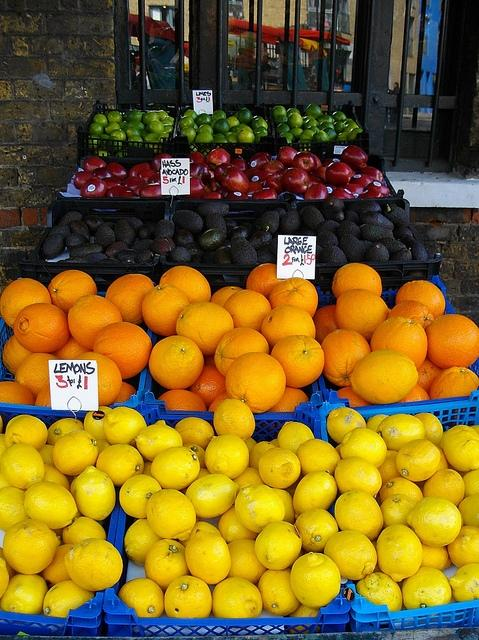apple: (219, 166, 249, 193), (282, 168, 310, 194), (326, 162, 352, 187), (342, 145, 368, 169), (79, 176, 108, 197), (292, 152, 317, 174), (206, 148, 230, 170), (214, 163, 235, 187), (181, 178, 206, 198), (73, 171, 100, 189), (276, 146, 297, 168), (105, 162, 128, 182), (356, 166, 384, 182), (263, 173, 284, 194), (151, 152, 173, 172), (303, 183, 328, 200), (138, 182, 166, 197), (365, 181, 390, 197), (249, 152, 271, 170), (83, 158, 106, 175), (262, 158, 285, 174), (340, 184, 366, 198), (106, 185, 134, 198), (128, 162, 150, 178), (196, 162, 211, 185), (137, 168, 158, 184), (248, 170, 272, 183), (349, 174, 373, 187), (252, 188, 278, 200), (331, 188, 356, 200), (123, 177, 146, 190), (244, 181, 263, 196), (312, 167, 328, 184), (230, 157, 250, 170), (101, 177, 122, 189), (356, 189, 384, 198), (322, 158, 342, 168), (190, 162, 202, 178), (188, 152, 206, 162), (225, 192, 250, 199), (148, 172, 161, 185), (203, 192, 223, 199), (119, 191, 139, 197)
avocado: (319, 245, 347, 279), (358, 210, 395, 232), (231, 235, 258, 264), (196, 202, 230, 224), (172, 210, 204, 233), (358, 223, 394, 243), (114, 218, 136, 249), (278, 210, 304, 236), (338, 238, 366, 262), (348, 200, 382, 218), (336, 220, 360, 245), (384, 207, 410, 230), (302, 206, 325, 232), (43, 234, 66, 260), (204, 213, 228, 237), (94, 226, 116, 252), (199, 228, 224, 250), (259, 210, 280, 236), (377, 238, 407, 256), (67, 220, 91, 242), (318, 204, 344, 224), (69, 243, 103, 258), (82, 214, 104, 237), (364, 242, 389, 262), (150, 236, 176, 255), (172, 226, 195, 247), (248, 231, 272, 251), (104, 241, 130, 259), (66, 233, 90, 252), (406, 240, 428, 260), (154, 220, 174, 240), (256, 246, 277, 265), (316, 220, 340, 236), (316, 231, 338, 248), (49, 223, 71, 240), (227, 226, 251, 241), (59, 212, 84, 226), (115, 248, 140, 262), (170, 247, 191, 263), (214, 246, 232, 264), (394, 226, 414, 242), (82, 252, 108, 264), (138, 222, 155, 240), (132, 240, 154, 253), (389, 248, 412, 260), (342, 210, 360, 224), (136, 250, 155, 263), (127, 218, 143, 232), (57, 256, 91, 262), (224, 219, 238, 233), (202, 251, 216, 264), (266, 238, 278, 252), (98, 258, 121, 264), (104, 222, 116, 232), (191, 254, 203, 263), (119, 258, 136, 264), (276, 208, 286, 218)
lemon: (3, 518, 61, 574), (64, 538, 122, 591), (290, 552, 341, 610), (405, 497, 462, 548), (376, 524, 423, 582), (400, 566, 452, 618), (146, 489, 197, 542), (324, 530, 378, 580), (186, 528, 232, 586), (334, 489, 384, 541), (234, 484, 286, 534), (24, 481, 78, 529), (145, 539, 192, 594), (184, 473, 240, 519), (72, 465, 116, 521), (254, 520, 302, 570), (52, 430, 100, 476), (151, 446, 200, 491), (212, 576, 263, 618), (1, 443, 46, 489), (292, 470, 337, 516), (258, 568, 300, 617), (205, 434, 249, 480), (96, 444, 144, 486), (334, 456, 382, 498), (224, 539, 268, 584), (43, 580, 95, 618), (165, 576, 212, 618), (0, 574, 48, 615), (376, 413, 426, 452), (294, 508, 337, 553), (395, 439, 441, 481), (135, 424, 184, 463), (119, 474, 162, 518), (340, 428, 387, 468), (124, 518, 163, 566), (103, 406, 147, 448), (356, 572, 402, 612), (119, 578, 165, 618), (213, 399, 255, 442), (258, 447, 301, 489), (423, 468, 465, 509), (296, 438, 341, 476), (411, 443, 449, 488), (443, 425, 479, 472), (5, 414, 48, 452), (218, 506, 258, 544), (326, 407, 366, 444), (1, 486, 31, 533), (42, 544, 74, 588), (174, 417, 214, 451), (448, 525, 478, 569), (380, 494, 416, 530), (277, 421, 314, 455), (63, 516, 106, 545), (450, 563, 478, 602), (380, 478, 423, 503), (233, 467, 266, 499), (288, 602, 321, 634), (47, 418, 84, 446), (180, 522, 221, 547), (84, 406, 113, 441), (270, 488, 296, 526), (414, 412, 443, 445), (377, 450, 403, 486), (420, 542, 451, 572), (42, 462, 70, 492), (178, 468, 210, 494), (250, 441, 278, 469), (458, 494, 479, 528), (182, 443, 208, 469), (463, 468, 479, 498), (366, 414, 389, 432), (0, 558, 9, 600), (38, 444, 55, 466), (0, 464, 14, 490), (96, 439, 112, 454), (140, 460, 152, 477), (245, 438, 258, 453), (0, 434, 6, 459), (469, 424, 478, 434), (270, 439, 280, 447), (0, 416, 4, 434)
lime: (194, 131, 215, 146), (213, 118, 230, 136), (142, 110, 161, 126), (305, 103, 323, 119), (146, 120, 165, 135), (287, 112, 303, 128), (237, 130, 255, 144), (106, 136, 122, 151), (181, 126, 196, 142), (195, 112, 212, 126), (126, 110, 144, 123), (178, 116, 194, 130), (238, 108, 252, 124), (88, 122, 104, 136), (104, 122, 120, 136), (313, 130, 331, 142), (93, 114, 108, 128), (128, 134, 143, 148), (88, 134, 102, 148), (274, 114, 288, 128), (331, 111, 347, 123), (304, 118, 320, 130), (197, 124, 213, 136), (272, 105, 286, 118), (316, 115, 336, 124), (107, 111, 122, 123), (279, 132, 296, 142), (128, 120, 145, 130), (300, 130, 314, 142), (348, 128, 362, 140), (226, 116, 240, 128), (183, 110, 198, 121), (111, 130, 127, 140), (334, 121, 346, 134), (254, 132, 267, 144), (157, 132, 169, 143), (160, 119, 174, 128), (254, 126, 268, 135), (286, 108, 300, 117), (144, 133, 159, 141), (226, 132, 238, 142), (118, 120, 128, 130), (212, 133, 226, 140), (229, 126, 241, 133), (342, 118, 354, 124), (163, 116, 174, 121), (252, 116, 263, 120)
